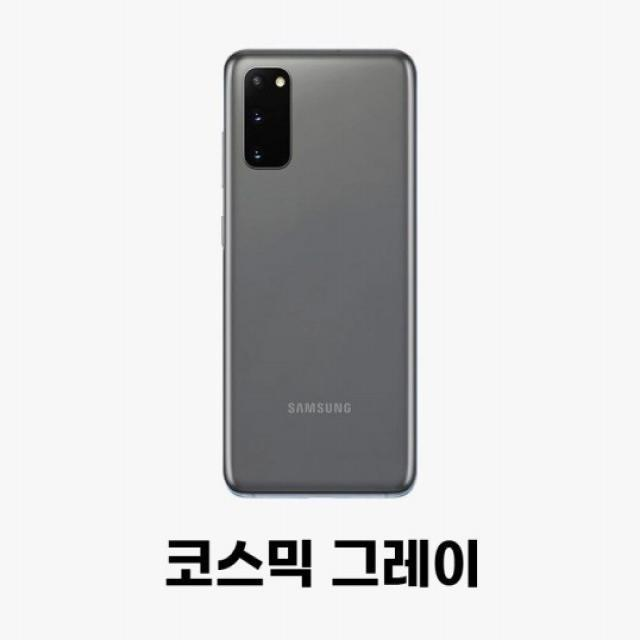phone: (218, 48, 420, 502)
